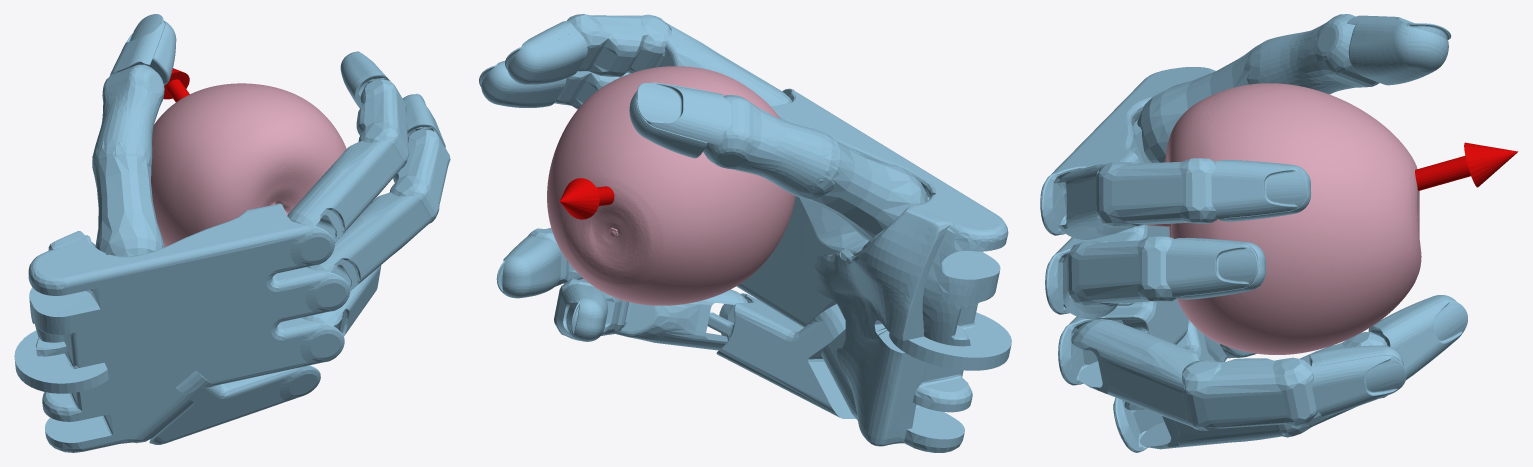
3 views of the same model, side by side, from view 1: azimuth 30°, elevation 25°; view 2: azimuth 150°, elevation 25°; view 3: azimuth 270°, elevation 25° (orthographic). The views are drawn at different scales.
Visible parts, largest first — view 1: world, apple.stl; view 2: world, apple.stl; view 3: world, apple.stl.
Part boxes in pixels (x1=…): world: x1=14, y1=14, x2=450, y2=452; apple.stl: x1=151, y1=83, x2=346, y2=247; world: x1=479, y1=14, x2=1011, y2=452; apple.stl: x1=547, y1=66, x2=795, y2=305; world: x1=1040, y1=14, x2=1518, y2=452; apple.stl: x1=1145, y1=83, x2=1421, y2=354.
Size of the model in its own units: 0.1822 by 0.1358 by 0.1344.
